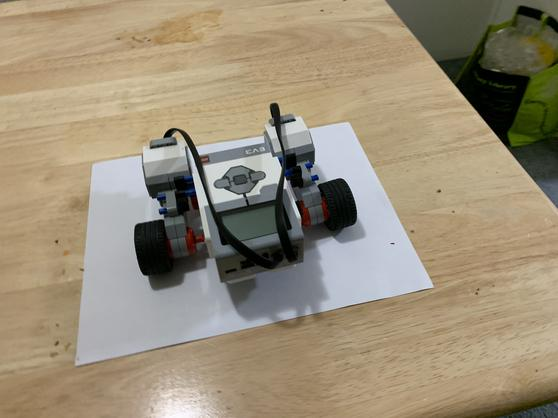robot: (131, 102, 357, 281)
